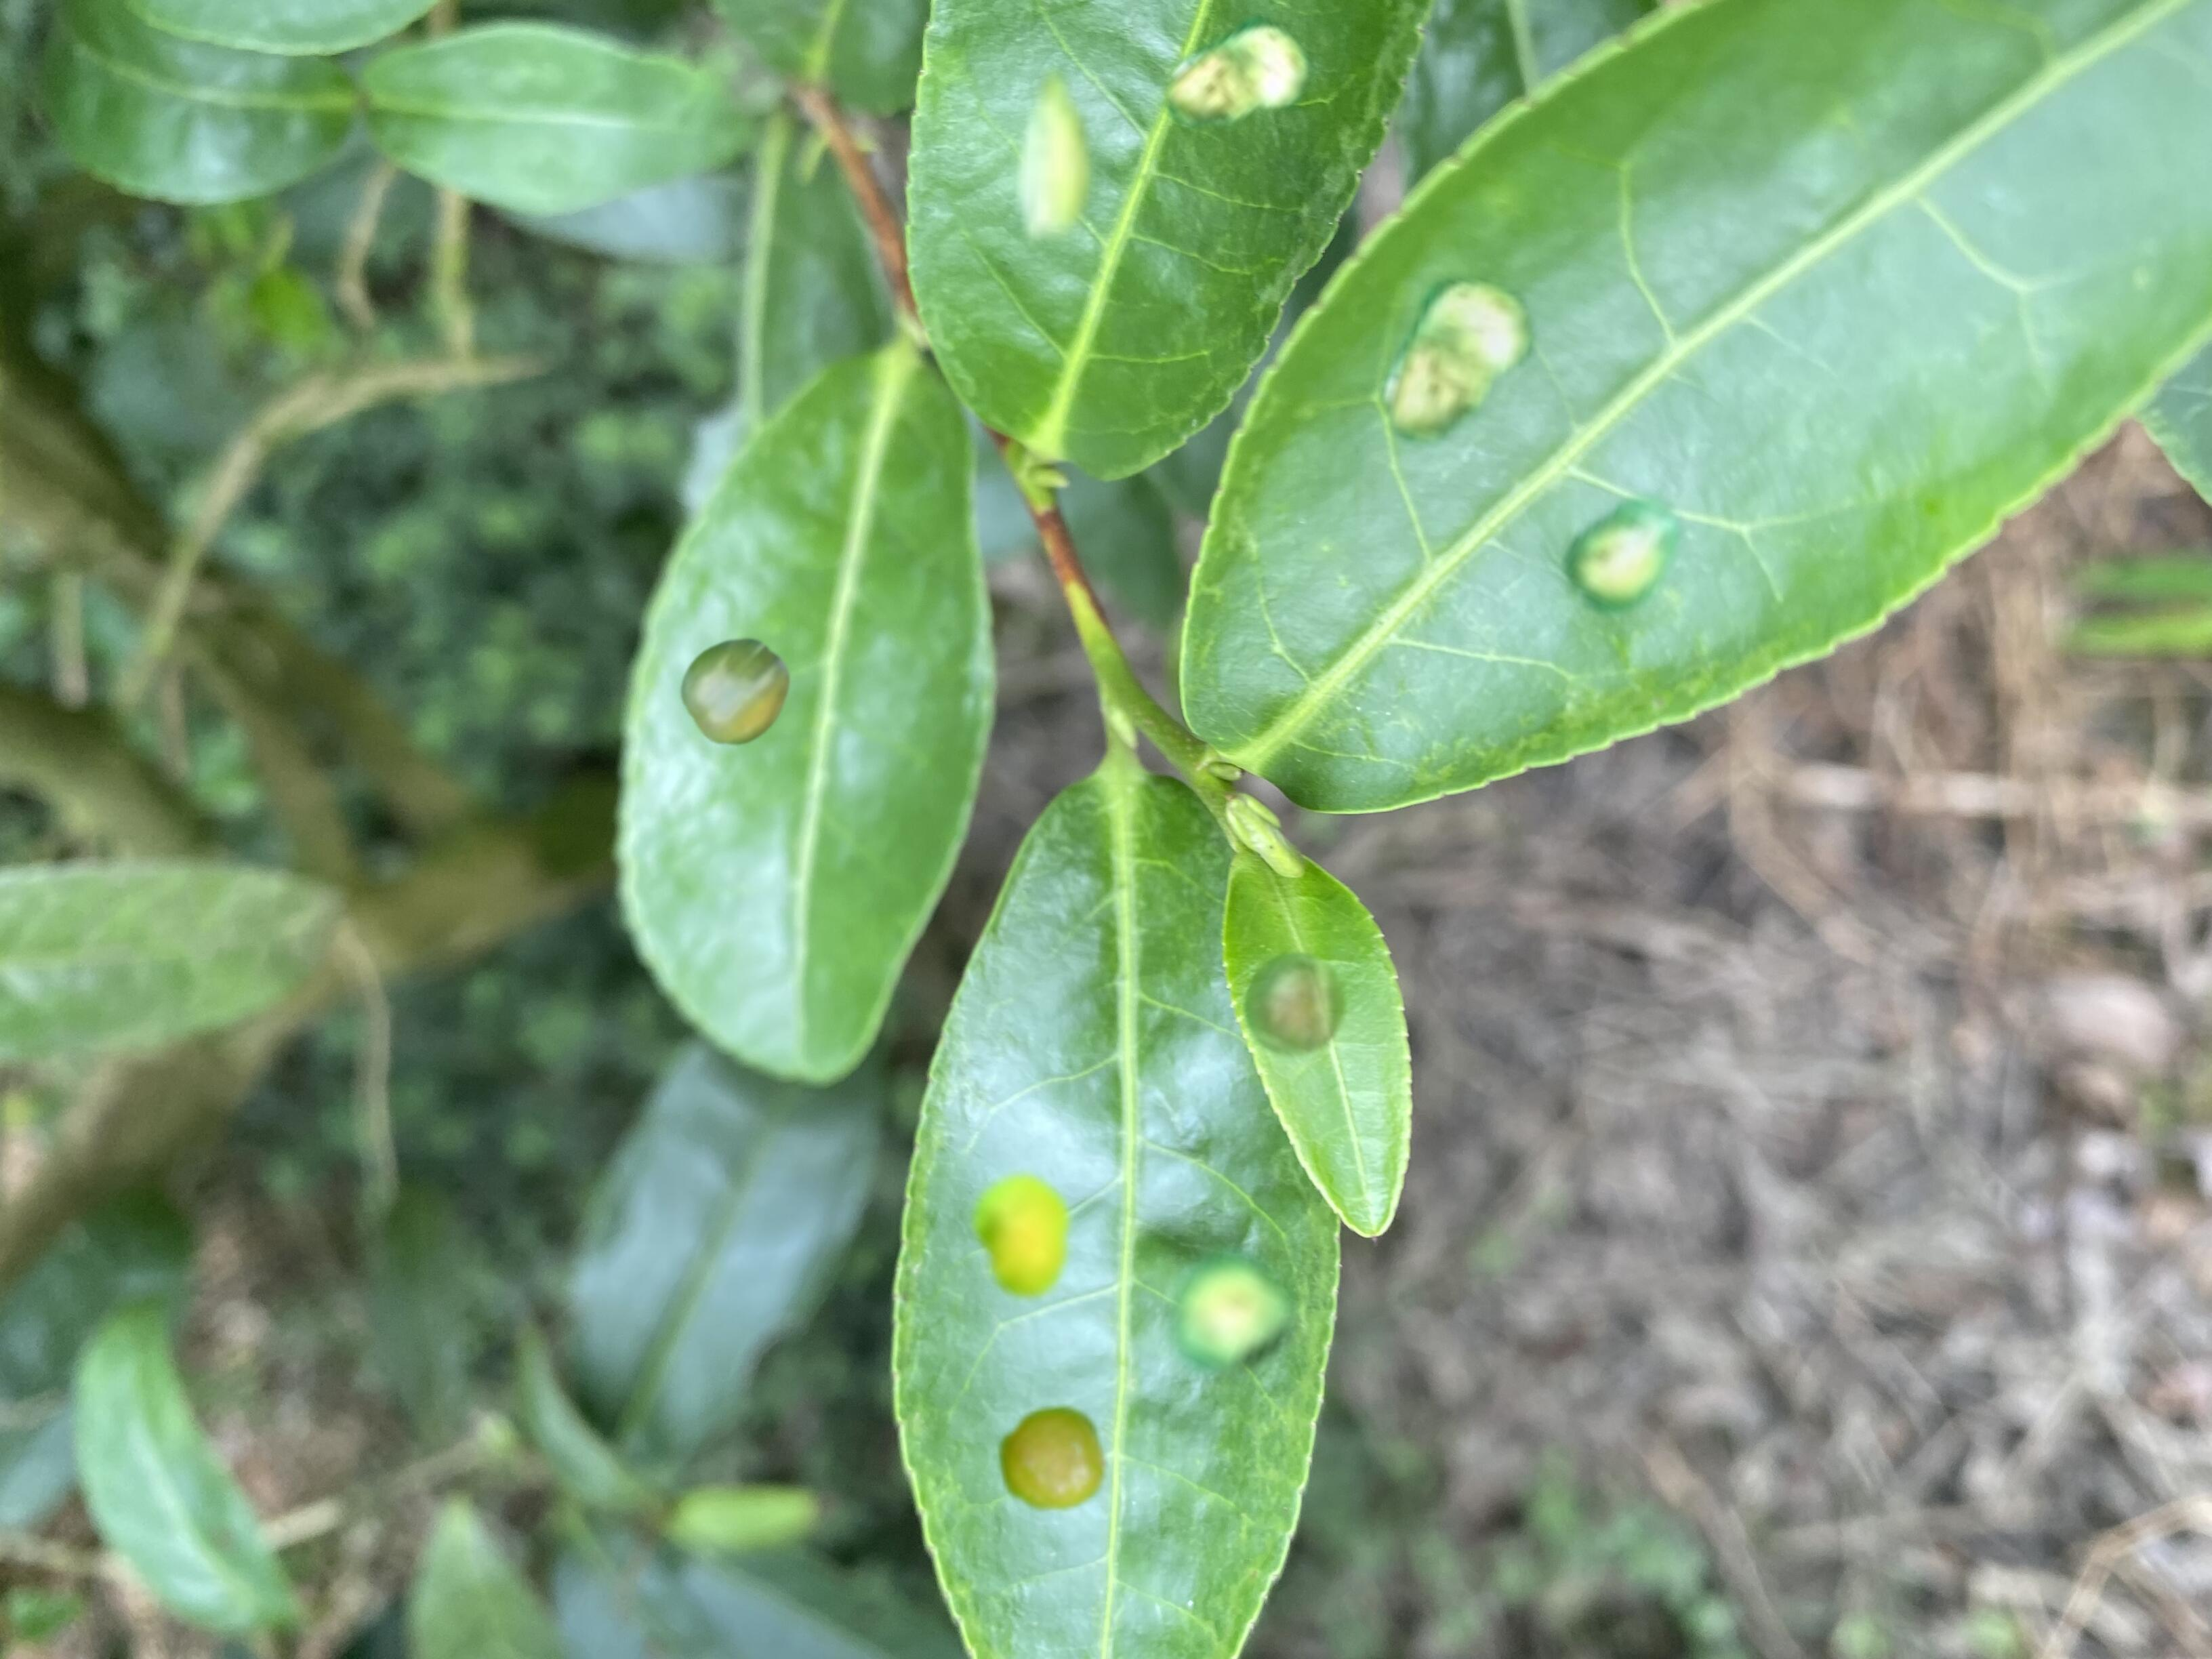chabing_high: (1181, 2, 2210, 817), (894, 769, 1341, 1656), (900, 2, 1430, 483)
chabing_low: (615, 347, 1003, 1086), (1223, 843, 1418, 1243)
